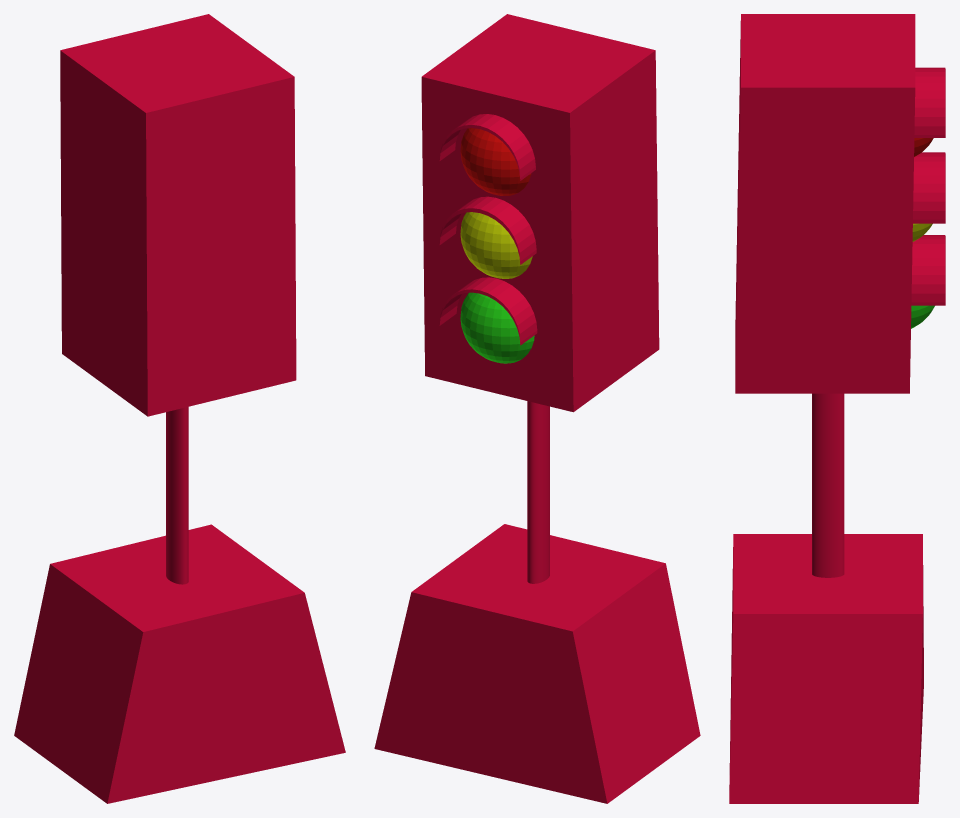
File: stoplight.obj
3 renders of one model, left to right at view 1: azimuth 30°, elevation 25°; view 2: azimuth 150°, elevation 25°; view 3: azimuth 270°, elevation 25°, orthographic.
Visible parts, largest first — view 1: Stoplight; view 2: Stoplight; view 3: Stoplight.
Part boxes in pixels (x1,y1,x2,y2): Stoplight: (14,14,345,803); Stoplight: (374,14,700,803); Stoplight: (729,14,945,803).
Size of the model in its own units: 2.92 by 8.08 by 2.29.
